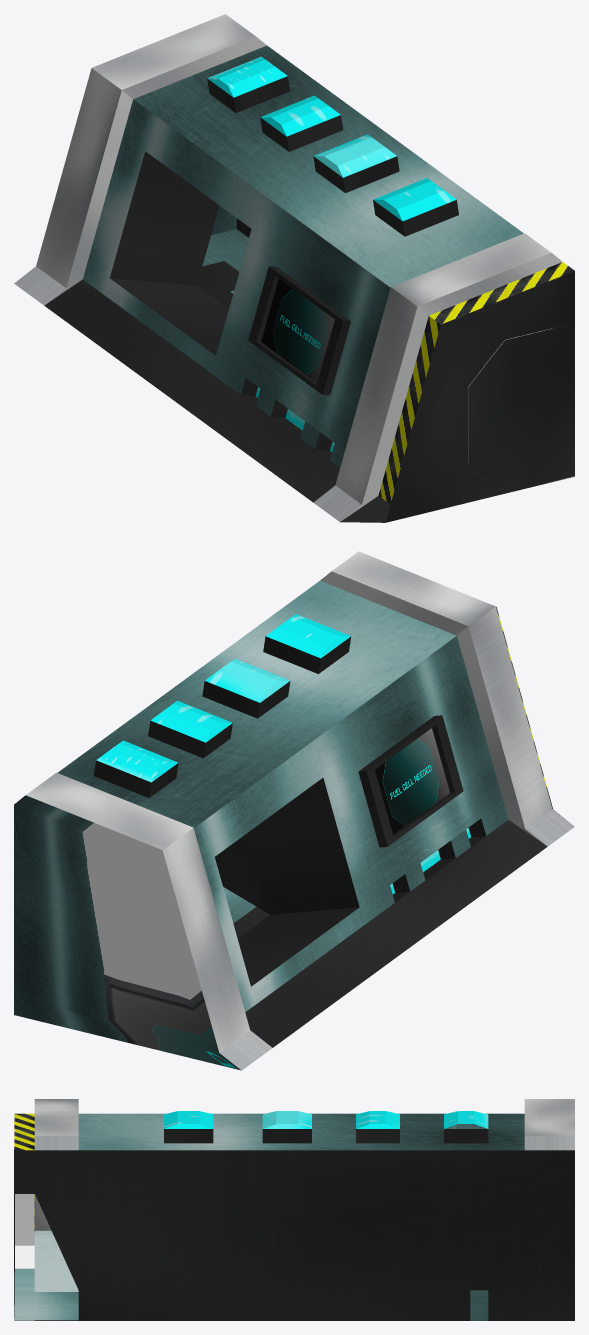
The model's file is Generator.fbx.
3 views of the same model, one above another, from view 1: azimuth 30°, elevation 25°; view 2: azimuth 150°, elevation 25°; view 3: azimuth 270°, elevation 25° (orthographic). The views are drawn at different scales.
Parts seen in each view (by area): view 1: Cube.002; view 2: Cube.002; view 3: Cube.002.
Part boxes in pixels (x1,y1,x2,y2): Cube.002: (14,14,574,522); Cube.002: (14,551,574,1070); Cube.002: (14,1099,574,1320).
Size of the model in its own units: 3.07 by 2.91 by 8.05.
